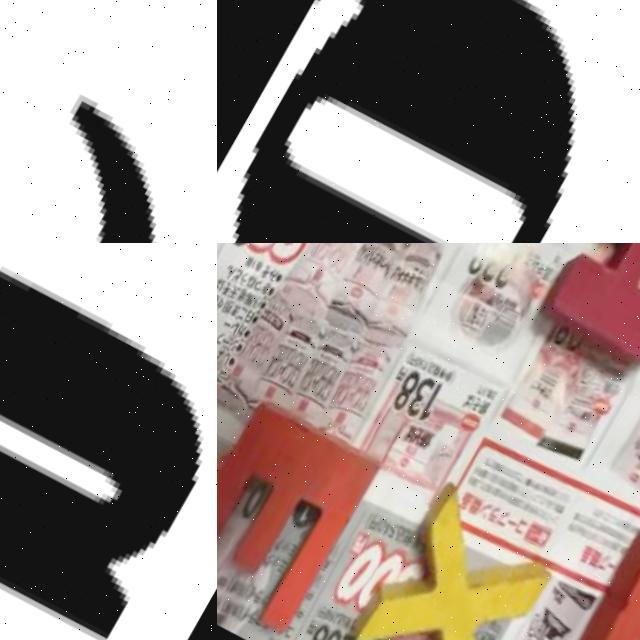2: (0, 0, 217, 243)
A: (533, 243, 640, 391)
E: (217, 392, 383, 640)
G: (217, 0, 640, 243)
Q: (0, 243, 217, 640)
X: (329, 484, 563, 640)
